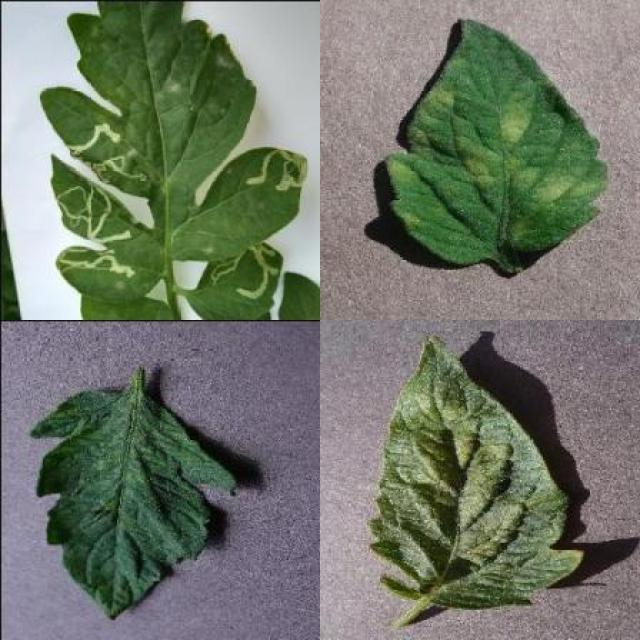Leaf Miner: (38, 0, 307, 301), (185, 241, 284, 320)
Leaf Mold: (386, 16, 608, 267)
Mosaic Virus: (26, 386, 241, 624)
Spider Mites: (367, 334, 586, 612)
